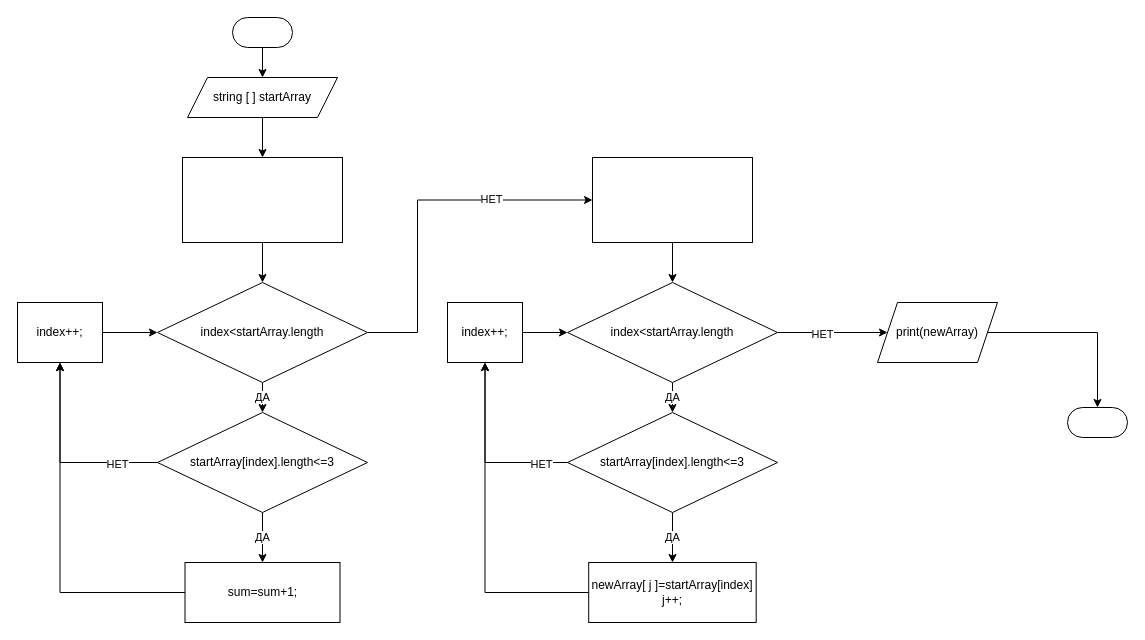
The diagram is 1145 pixels wide and 640 high, and some of its shapes have lost their labels. The box of each missing label's shape, as (x1, y1, x2, y2) in pixels:
index=0; sum=0;: (182, 156, 342, 242)
string [ ] newArray; index=0; j=0;: (592, 156, 752, 242)
Конец: (1066, 406, 1128, 438)
Начало: (232, 16, 292, 48)
